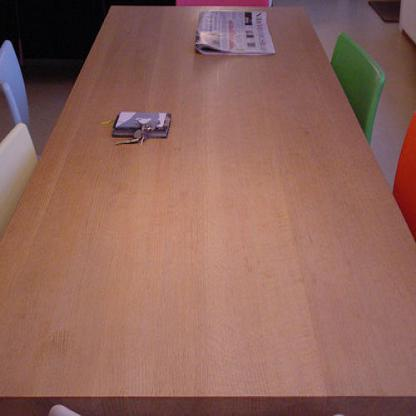chair: (329, 29, 384, 140), (1, 36, 42, 168), (0, 124, 40, 241), (392, 106, 415, 235)
